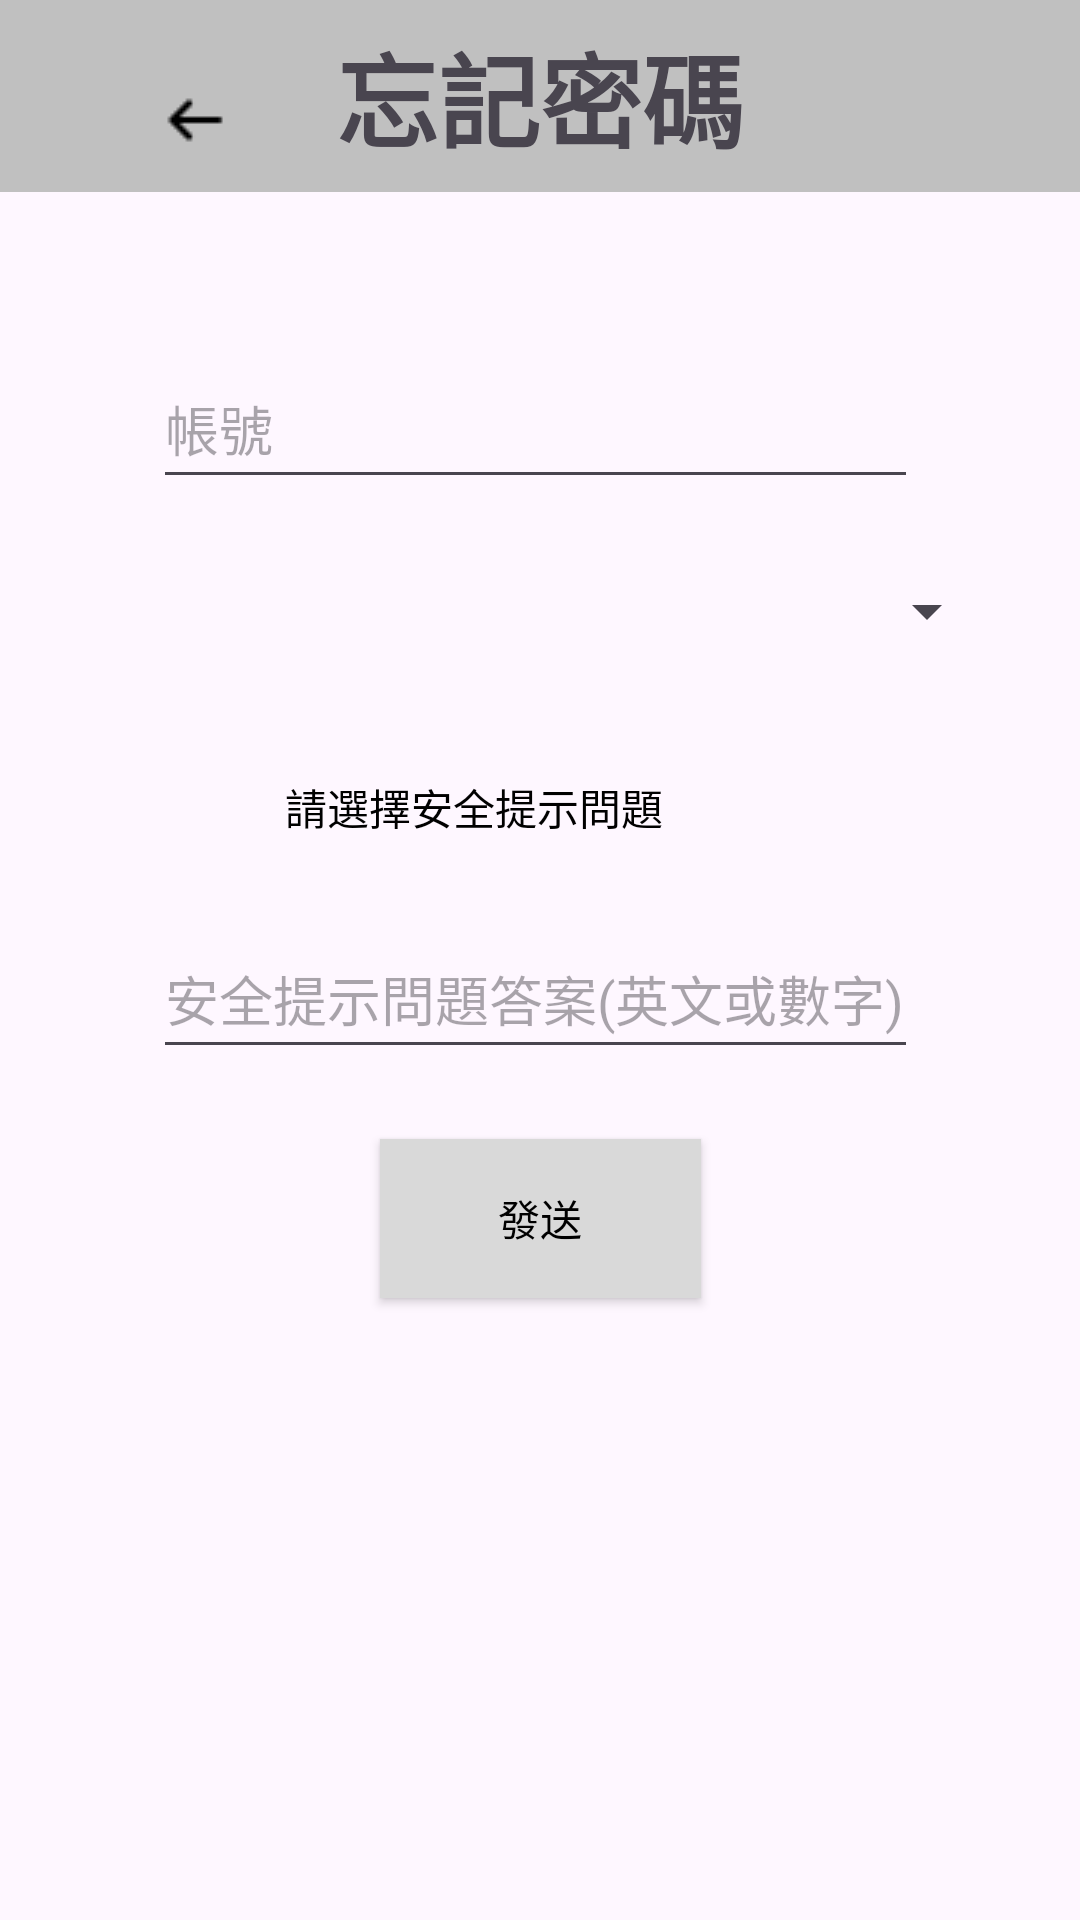

Screen size 1080×1920. Icon name, then its box in pixels as (x1, y1, x2, y2):
arrow left: (167, 98, 223, 142)
